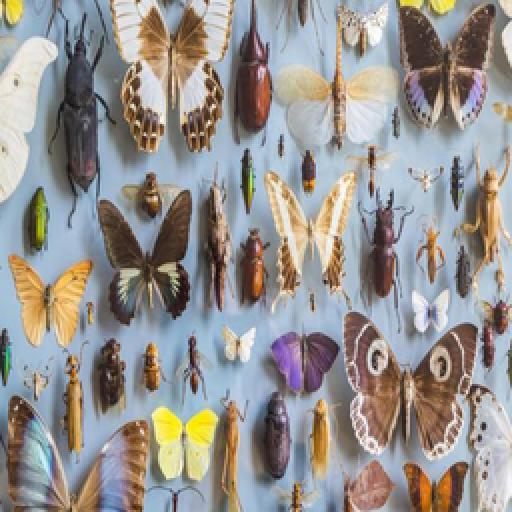insects: (338, 308, 480, 462), (110, 0, 230, 160), (94, 188, 198, 328), (268, 162, 358, 316), (396, 0, 498, 134), (276, 60, 398, 158), (50, 16, 116, 194), (2, 386, 74, 512), (0, 252, 94, 348), (72, 414, 154, 512), (146, 400, 216, 512), (462, 360, 510, 512), (228, 0, 276, 142), (266, 320, 334, 404), (460, 164, 510, 266), (364, 154, 394, 306), (198, 182, 232, 316), (252, 388, 292, 486), (232, 224, 272, 318), (216, 398, 244, 512), (60, 342, 86, 462), (410, 220, 450, 286), (92, 336, 124, 418), (124, 174, 178, 222), (140, 328, 170, 412), (350, 458, 394, 512), (400, 458, 440, 512), (310, 414, 332, 512), (178, 334, 208, 398), (404, 164, 448, 206), (220, 322, 260, 368), (450, 284, 488, 330), (28, 182, 52, 254), (26, 336, 52, 394), (268, 150, 290, 218), (240, 150, 260, 218), (410, 286, 436, 336), (490, 294, 510, 348), (0, 326, 16, 392), (298, 152, 320, 198)
